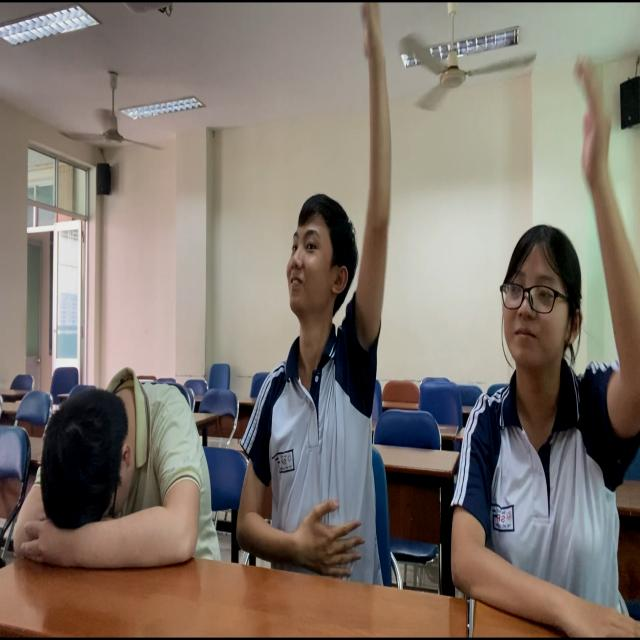raise_hand: (482, 44, 640, 640), (258, 1, 392, 579)
sleep: (6, 366, 227, 591)
